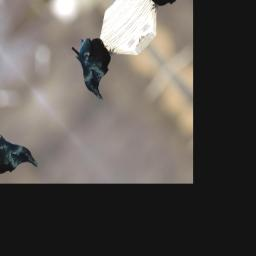Crow: (62, 25, 131, 103)
